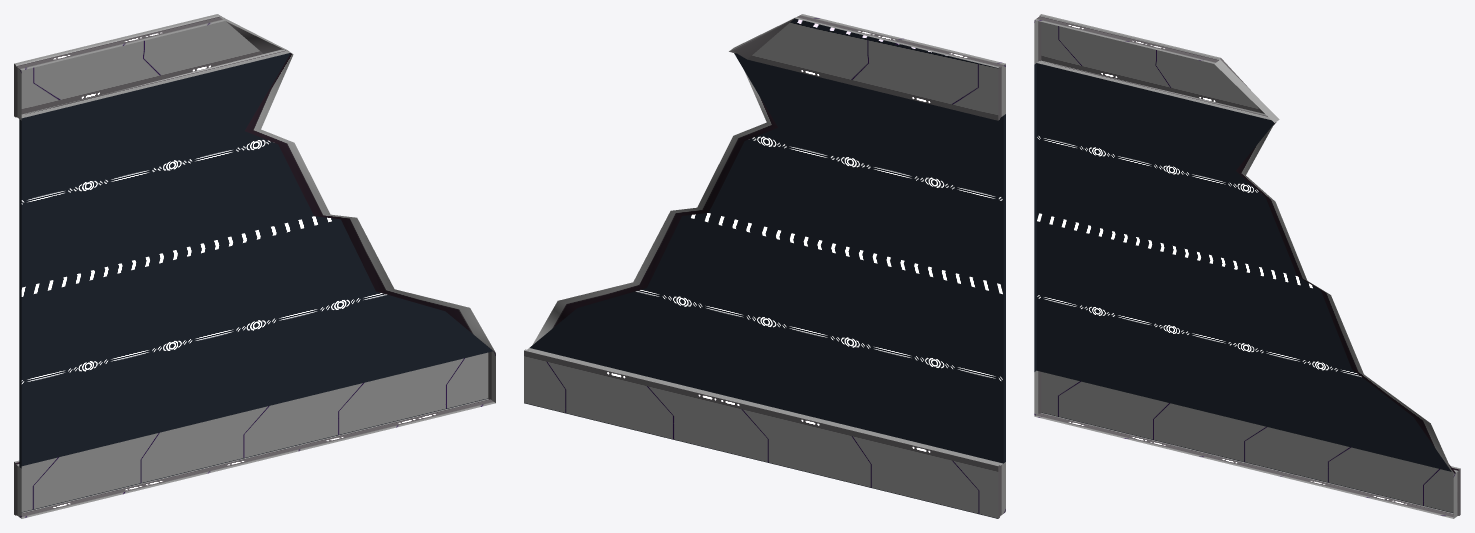
Rendered from SM_L_BRoad1.fbx.
3 views of the same model, side by side, from view 1: azimuth 30°, elevation 25°; view 2: azimuth 150°, elevation 25°; view 3: azimuth 330°, elevation 25° (orthographic). The views are drawn at different scales.
Visible parts, largest first — view 1: SM_L_BRoad1; view 2: SM_L_BRoad1; view 3: SM_L_BRoad1.
Boxes of the visible parts, left/top/right/bottom form: SM_L_BRoad1: left=14, top=14, right=495, bottom=518; SM_L_BRoad1: left=524, top=14, right=1005, bottom=518; SM_L_BRoad1: left=1034, top=14, right=1460, bottom=518.
Bounding box in the file's own units: 5418 × 4923 × 155.
